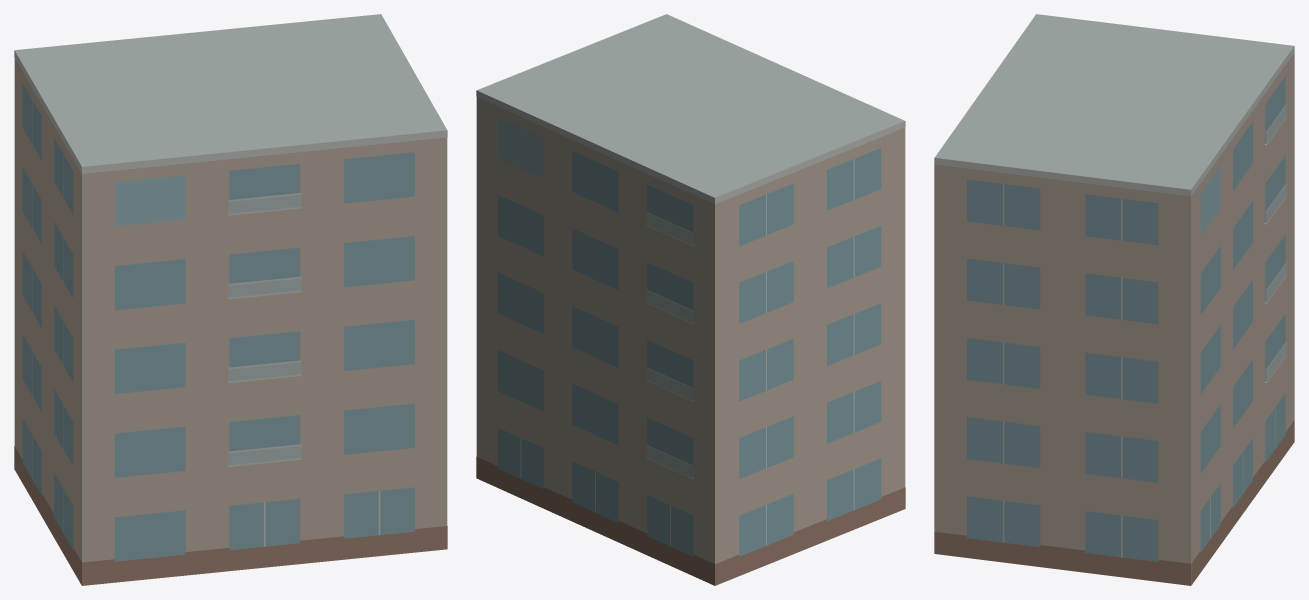
File: survey-upis-33002769.glb
3 views of the same model, side by side, from view 1: azimuth 30°, elevation 25°; view 2: azimuth 150°, elevation 25°; view 3: azimuth 270°, elevation 25° (orthographic). The views are drawn at different scales.
Parts seen in each view (by area): view 1: survey-upis-33002769.tmp; view 2: survey-upis-33002769.tmp; view 3: survey-upis-33002769.tmp.
Part boxes in pixels (left/top/right/bottom): survey-upis-33002769.tmp: left=14, top=14, right=447, bottom=585; survey-upis-33002769.tmp: left=476, top=14, right=905, bottom=585; survey-upis-33002769.tmp: left=934, top=14, right=1294, bottom=585.
Size of the model in its own units: 13.91 by 14.6 by 12.04.
